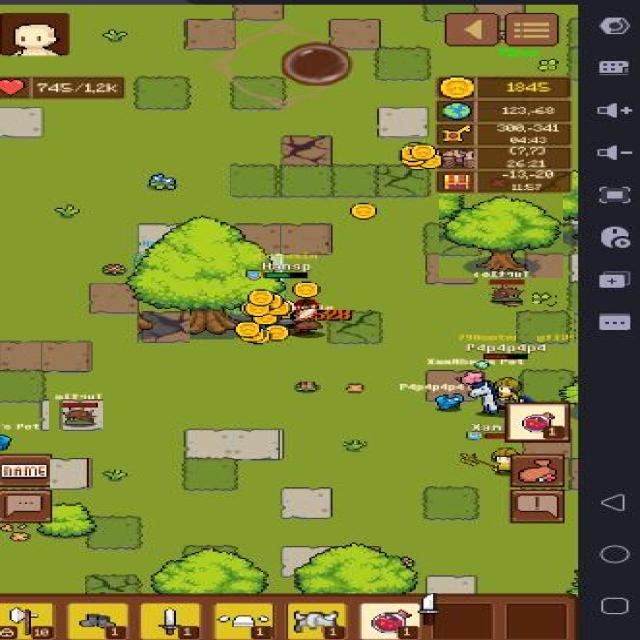earth_square: (139, 311, 190, 343), (280, 223, 331, 254), (425, 252, 476, 283), (329, 20, 379, 49), (186, 20, 236, 49), (280, 136, 331, 164), (40, 342, 91, 370), (91, 283, 137, 314), (236, 223, 280, 253), (0, 342, 41, 370), (232, 5, 280, 20)
grass: (51, 202, 83, 226), (100, 470, 130, 481), (532, 291, 555, 304), (344, 439, 364, 451)
gray_square: (280, 546, 329, 578), (280, 488, 331, 518), (184, 430, 232, 459), (379, 107, 427, 136), (234, 429, 280, 459), (50, 458, 89, 490), (0, 107, 41, 137), (137, 225, 174, 252), (427, 577, 476, 593)
green_square: (516, 311, 574, 344), (423, 486, 478, 520), (136, 75, 190, 108), (230, 76, 284, 108), (327, 311, 379, 344), (182, 456, 234, 489), (375, 166, 429, 197), (278, 165, 332, 196), (377, 48, 429, 79), (230, 163, 279, 195), (85, 574, 141, 592)
tree: (122, 216, 288, 338), (439, 193, 563, 278), (294, 542, 418, 594), (145, 544, 265, 594), (34, 502, 96, 536), (538, 192, 576, 220)
turtle: (49, 393, 103, 434), (478, 268, 532, 308)
